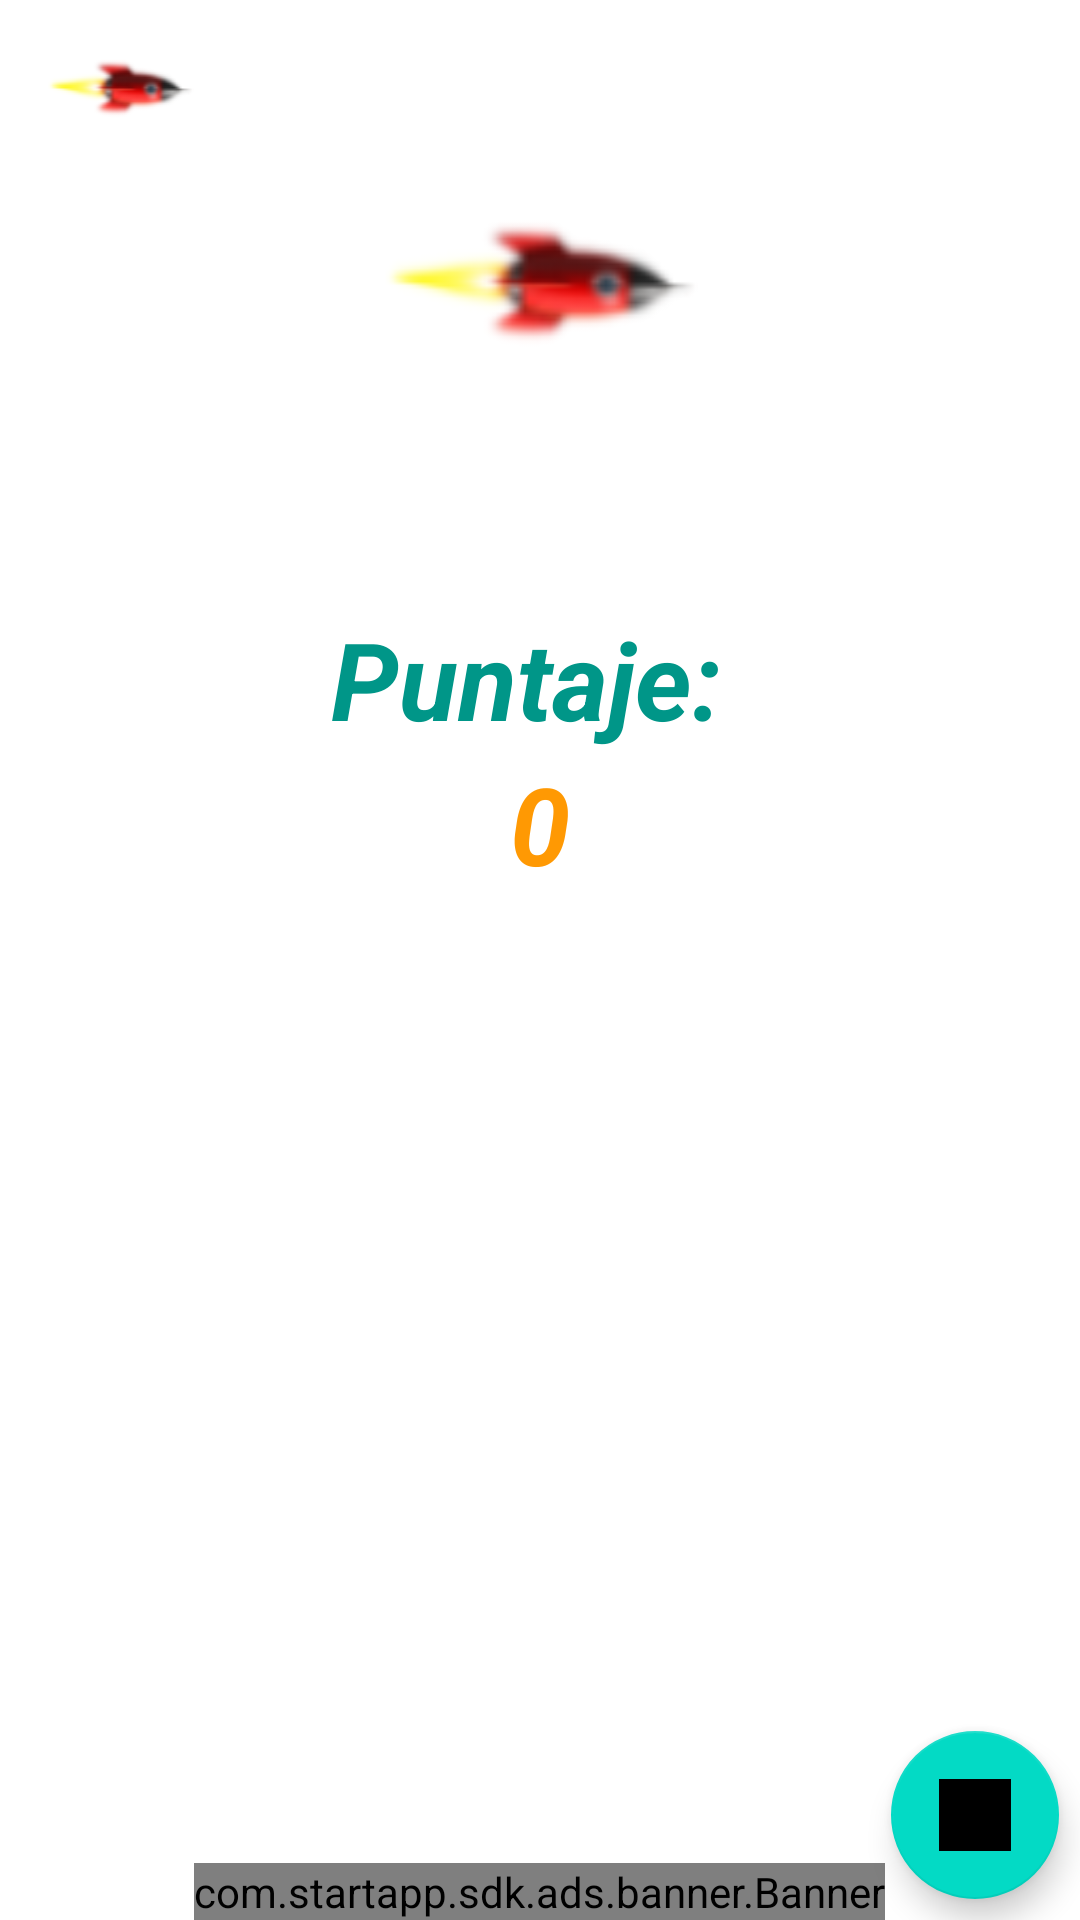

Point at icon controls on the screen. Image size 1080 × 1920, points as [x,y].
nave: [120,87], [539,282]
